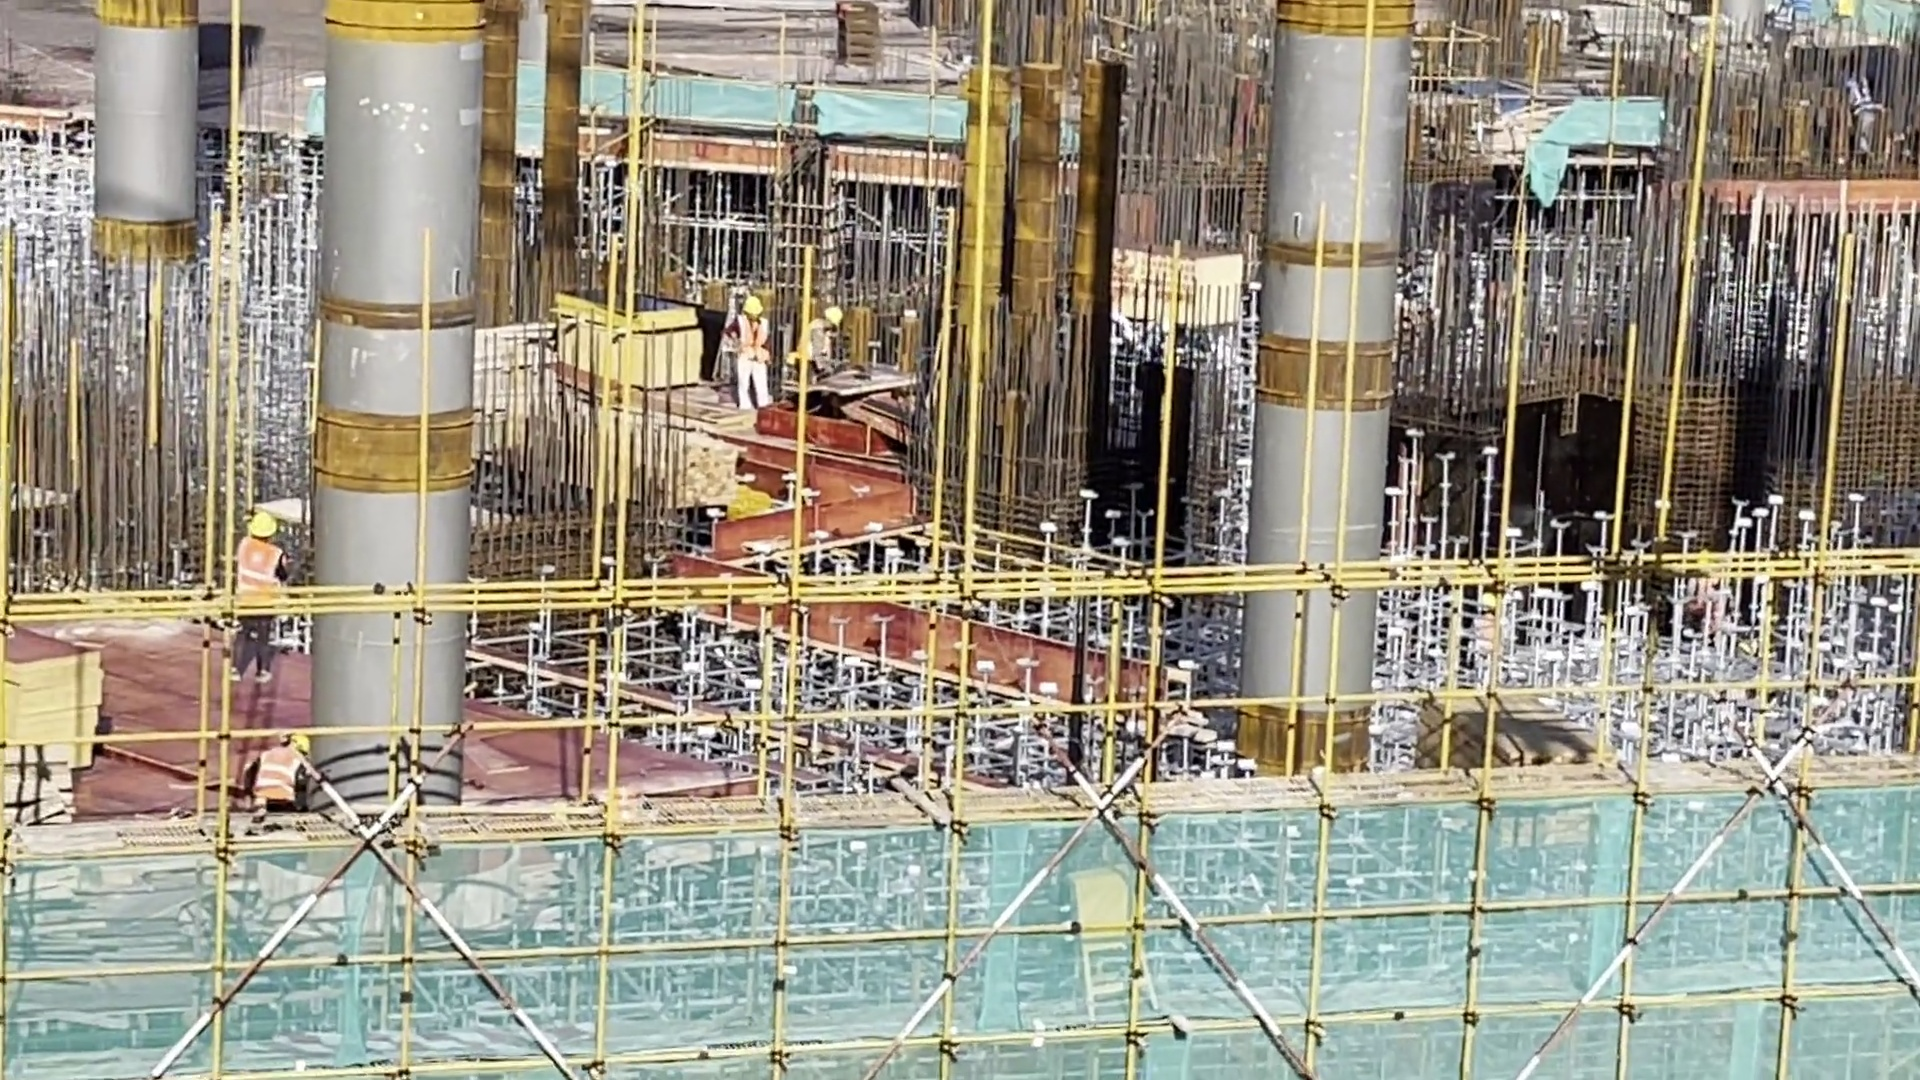helmet: (243, 510, 284, 549), (283, 729, 313, 761), (743, 296, 770, 328), (825, 306, 842, 330)
person: (225, 498, 288, 693), (237, 733, 323, 843), (725, 294, 779, 420), (1829, 62, 1886, 179), (795, 305, 845, 387)
vest: (238, 533, 282, 621), (252, 747, 298, 815), (800, 315, 836, 367), (738, 315, 773, 363), (1847, 76, 1878, 115)
